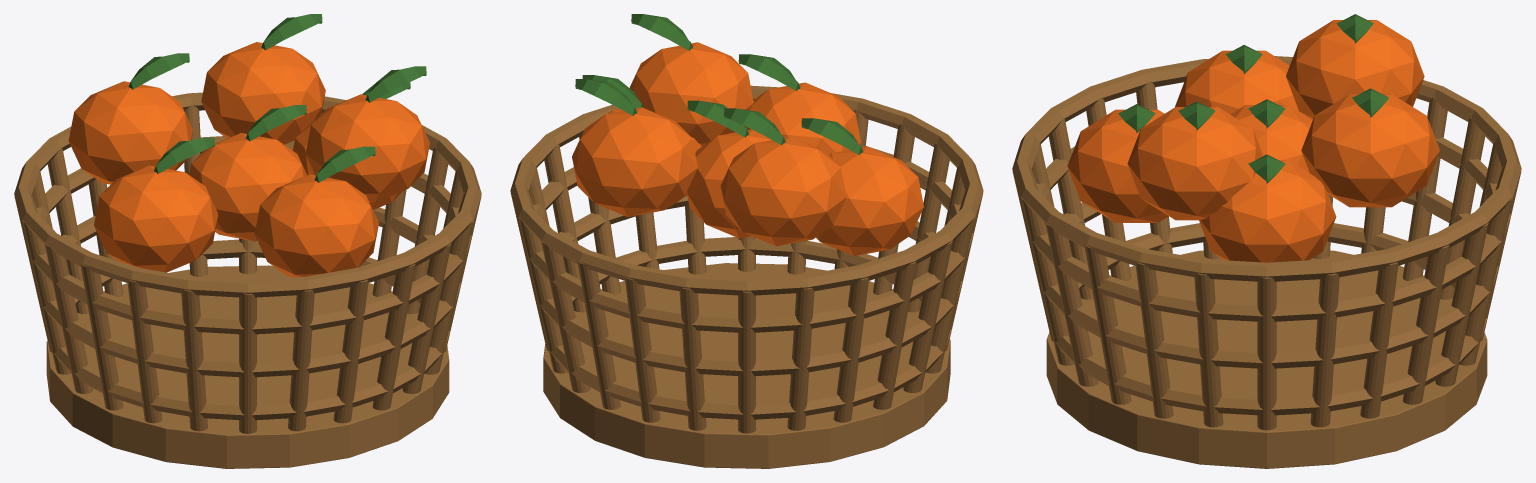
3 views of the same model, side by side, from view 1: azimuth 30°, elevation 25°; view 2: azimuth 150°, elevation 25°; view 3: azimuth 270°, elevation 25° (orthographic). The views are drawn at different scales.
Visible parts, largest first — view 1: BASKET_Base, BASKET_Weave, MANDARIN_4, MANDARIN_2, MANDARIN_1, MANDARIN_5, MANDARIN_3, BASKET_Weave.003, MANDARIN_6, BASKET_Weave.002, BASKET_Weave.001, BASKET_Upright.016 (+23 smaller); view 2: BASKET_Base, BASKET_Weave, MANDARIN_3, MANDARIN_1, BASKET_Weave.001, BASKET_Weave.003, MANDARIN_4, MANDARIN_5, BASKET_Weave.002, MANDARIN_2, MANDARIN_6, BASKET_Upright.008 (+24 smaller); view 3: BASKET_Base, BASKET_Weave, MANDARIN_3, MANDARIN_5, MANDARIN_0, BASKET_Weave.003, MANDARIN_1, BASKET_Weave.001, BASKET_Weave.002, MANDARIN_2, MANDARIN_4, BASKET_Upright.001 (+26 smaller).
Boxes of the visible parts, bbox=[...] form: BASKET_Base: bbox=[46, 265, 449, 468]; BASKET_Weave: bbox=[14, 92, 481, 297]; MANDARIN_4: bbox=[94, 165, 218, 272]; MANDARIN_2: bbox=[254, 174, 378, 277]; MANDARIN_1: bbox=[68, 81, 192, 184]; MANDARIN_5: bbox=[305, 94, 429, 202]; MANDARIN_3: bbox=[201, 42, 325, 144]; BASKET_Weave.003: bbox=[24, 136, 471, 334]; MANDARIN_6: bbox=[189, 133, 307, 241]; BASKET_Weave.002: bbox=[35, 207, 460, 377]; BASKET_Weave.001: bbox=[46, 239, 449, 420]; BASKET_Upright.016: bbox=[181, 290, 207, 431]; BASKET_Base: bbox=[543, 263, 950, 468]; BASKET_Weave: bbox=[510, 85, 983, 295]; MANDARIN_3: bbox=[572, 107, 697, 216]; MANDARIN_1: bbox=[720, 136, 846, 246]; BASKET_Weave.001: bbox=[542, 237, 951, 419]; BASKET_Weave.003: bbox=[520, 145, 973, 332]; MANDARIN_4: bbox=[816, 146, 923, 256]; MANDARIN_5: bbox=[629, 42, 753, 146]; BASKET_Weave.002: bbox=[531, 195, 962, 376]; MANDARIN_2: bbox=[744, 82, 861, 154]; MANDARIN_6: bbox=[686, 129, 771, 238]; BASKET_Upright.008: bbox=[679, 288, 706, 430]; BASKET_Base: bbox=[1046, 250, 1487, 468]; BASKET_Weave: bbox=[1012, 56, 1521, 281]; MANDARIN_3: bbox=[1301, 94, 1439, 207]; MANDARIN_5: bbox=[1127, 107, 1263, 220]; MANDARIN_0: bbox=[1199, 160, 1336, 262]; BASKET_Weave.003: bbox=[1023, 118, 1510, 321]; MANDARIN_1: bbox=[1286, 20, 1424, 119]; BASKET_Weave.001: bbox=[1047, 223, 1486, 415]; BASKET_Weave.002: bbox=[1035, 192, 1498, 368]; MANDARIN_2: bbox=[1067, 109, 1168, 222]; MANDARIN_4: bbox=[1175, 50, 1309, 117]; BASKET_Upright.001: bbox=[1257, 277, 1276, 430].
Bounding box in the file's own units: 0.624 × 0.4547 × 0.624.
